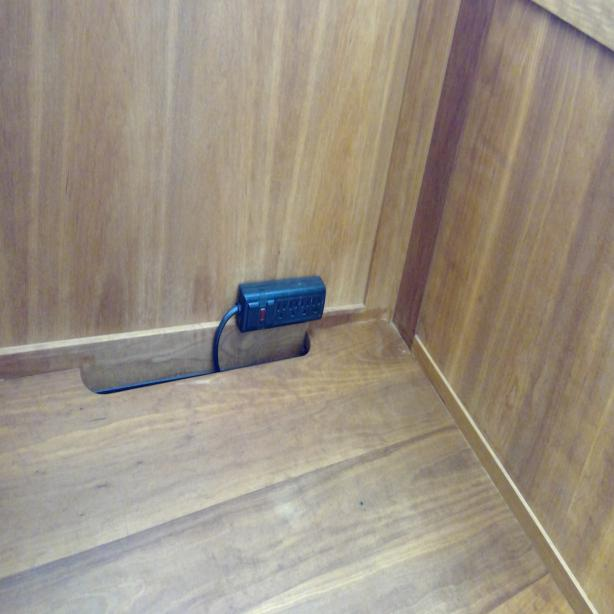typeb: (311, 294, 324, 320), (275, 298, 286, 324), (300, 296, 311, 321), (288, 295, 299, 319)
